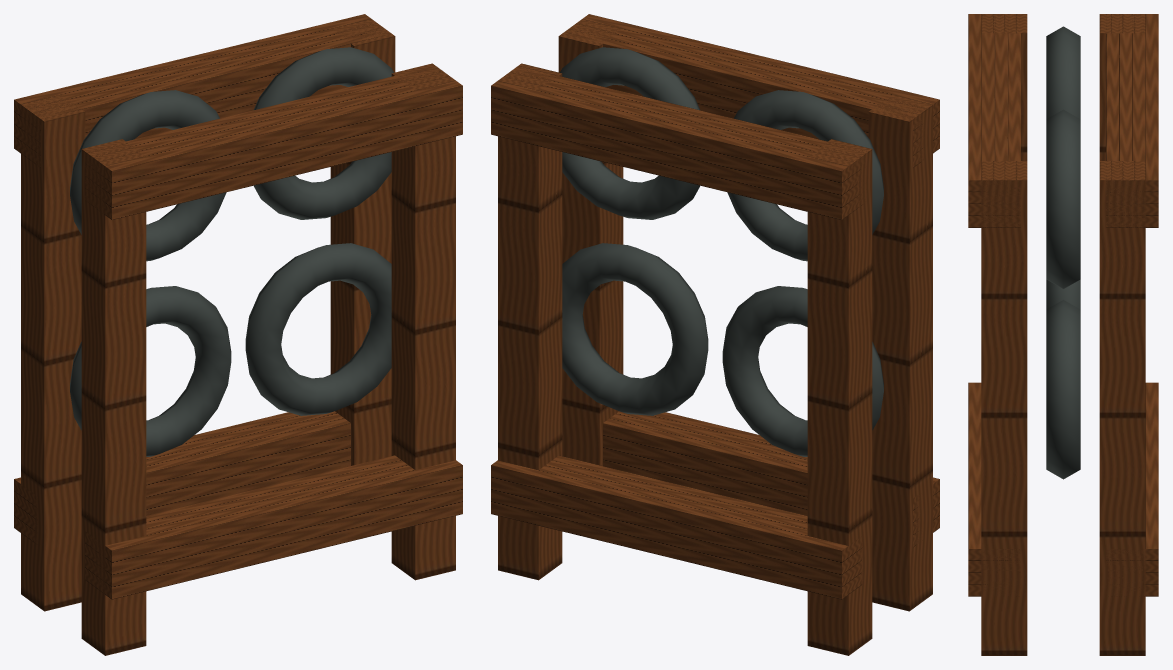
Rendered from bunker-shelter-construction-door-seal-storage-063ae64b__23380.glb.
3 views of the same model, side by side, from view 1: azimuth 30°, elevation 25°; view 2: azimuth 150°, elevation 25°; view 3: azimuth 270°, elevation 25° (orthographic). The views are drawn at different scales.
Parts seen in each view (by area): view 1: door-seal-storage; view 2: door-seal-storage; view 3: door-seal-storage.
Boxes of the visible parts, x1,y1,x2,y2 form: door-seal-storage: [14, 14, 462, 655]; door-seal-storage: [491, 14, 939, 655]; door-seal-storage: [968, 14, 1158, 655].
Bounding box in the file's own units: 0.6 × 0.836 × 0.29.
2 materials, 1 textured.
